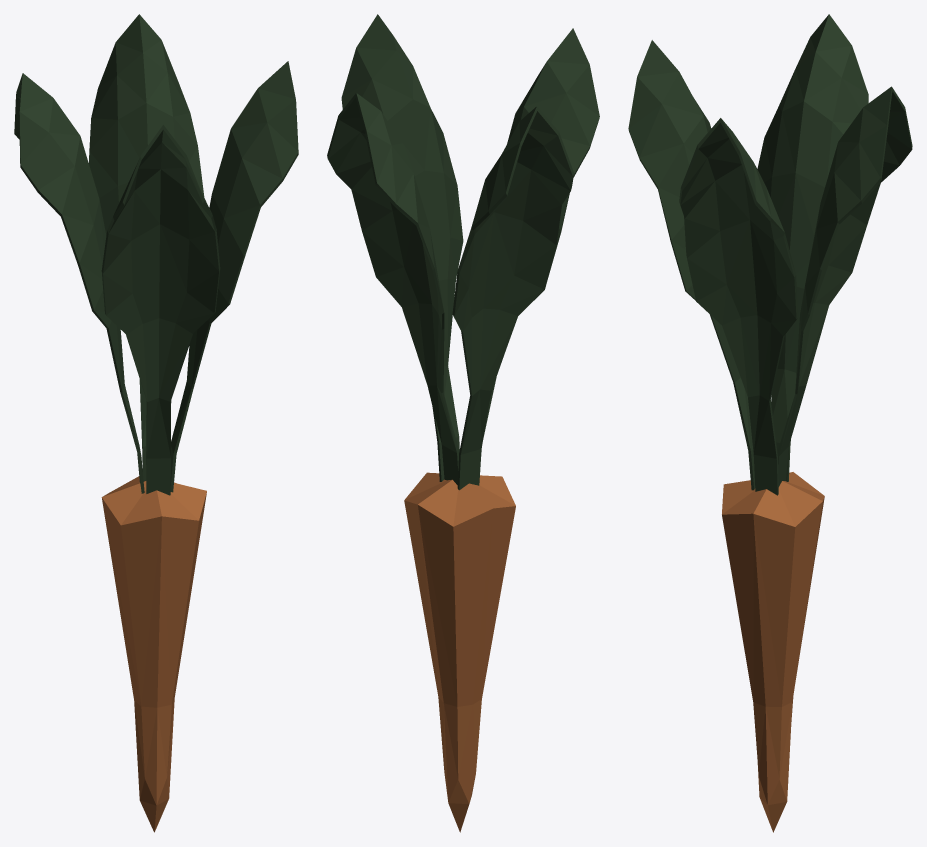
The model's file is carrot.glb.
3 renders of one model, left to right at view 1: azimuth 30°, elevation 25°; view 2: azimuth 150°, elevation 25°; view 3: azimuth 270°, elevation 25°, orthographic.
Visible parts, largest first — view 1: Carrot; view 2: Carrot; view 3: Carrot.
Part boxes in pixels (x1,y1,x2,y2): Carrot: [14, 14, 298, 832]; Carrot: [327, 14, 599, 832]; Carrot: [628, 14, 912, 832].
Size of the model in its own units: 0.9468 by 2.78 by 0.9315.
